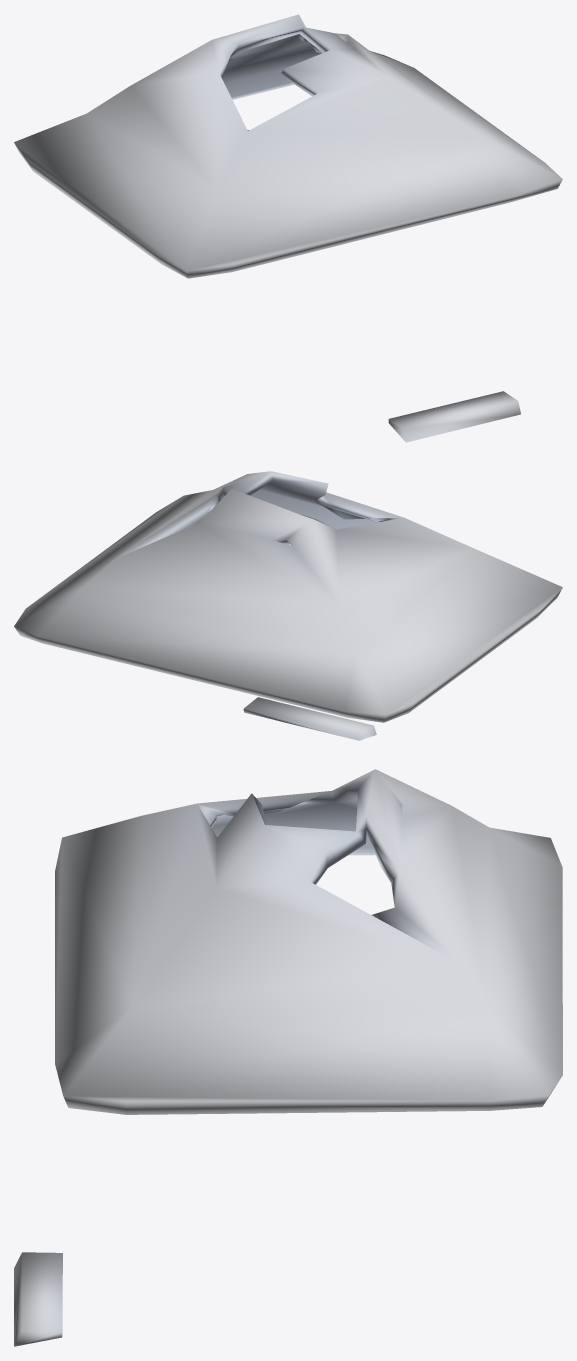
Rendered from protocol.kyber.snow.glb.
3 views of the same model, one above another, from view 1: azimuth 30°, elevation 25°; view 2: azimuth 150°, elevation 25°; view 3: azimuth 270°, elevation 25° (orthographic). The views are drawn at different scales.
Visible parts, largest first — view 1: building.protocol.kyber.snow.mesh; view 2: building.protocol.kyber.snow.mesh; view 3: building.protocol.kyber.snow.mesh.
Boxes of the visible parts, box(x1,y1,x2,y2) form: building.protocol.kyber.snow.mesh: box(14, 14, 562, 442); building.protocol.kyber.snow.mesh: box(14, 471, 562, 740); building.protocol.kyber.snow.mesh: box(14, 769, 562, 1346).
Size of the model in its own units: 2.13 by 1.75 by 1.88.
